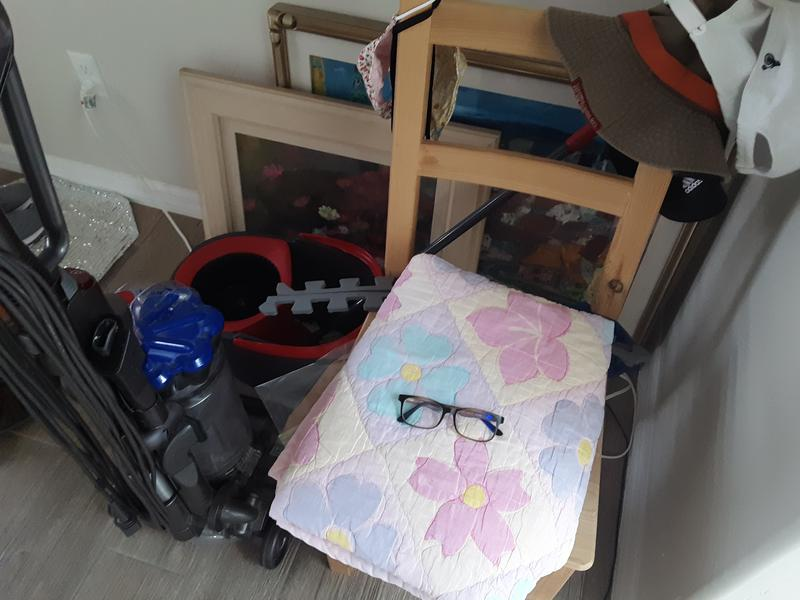glasses: (394, 390, 506, 444)
